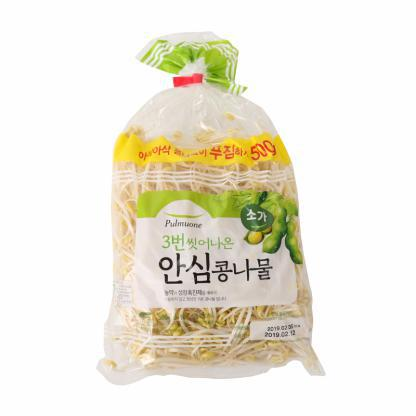bean sprouts: (70, 36, 348, 391)
